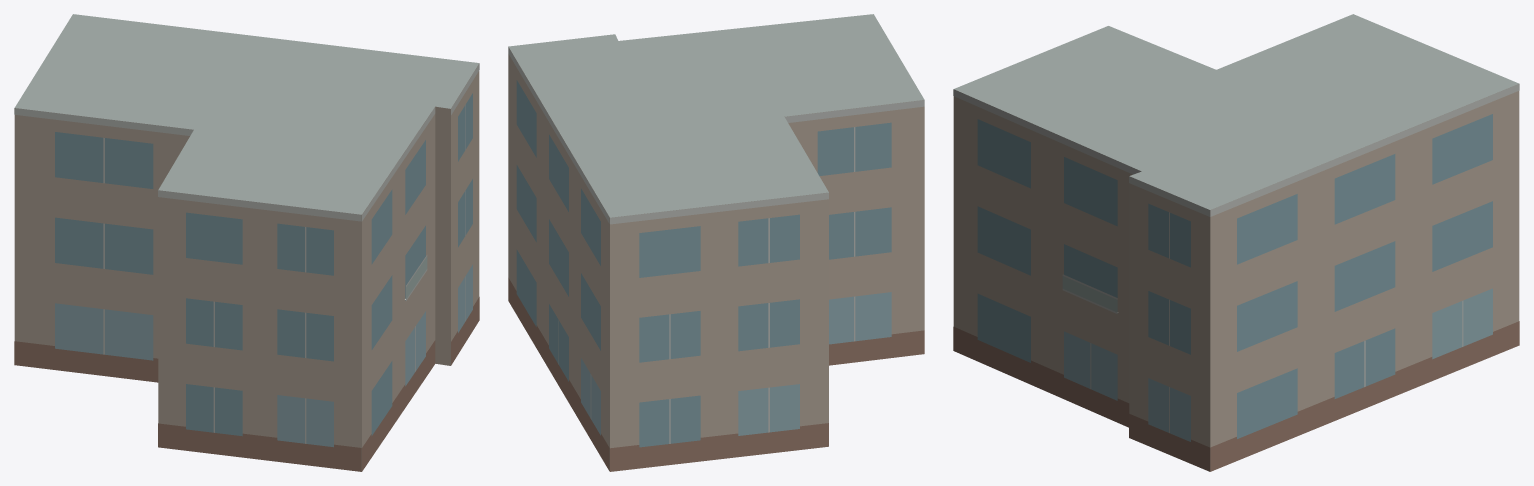
The model's file is survey-upis-32513532.glb.
3 renders of one model, left to right at view 1: azimuth 30°, elevation 25°; view 2: azimuth 150°, elevation 25°; view 3: azimuth 270°, elevation 25°, orthographic. The views are drawn at different scales.
Visible parts, largest first — view 1: survey-upis-32513532.tmp; view 2: survey-upis-32513532.tmp; view 3: survey-upis-32513532.tmp.
Part boxes in pixels (x1,y1,x2,y2): survey-upis-32513532.tmp: (14, 14, 479, 471); survey-upis-32513532.tmp: (508, 14, 924, 471); survey-upis-32513532.tmp: (953, 14, 1519, 471).
Size of the model in its own units: 14.71 by 9.15 by 17.93.
